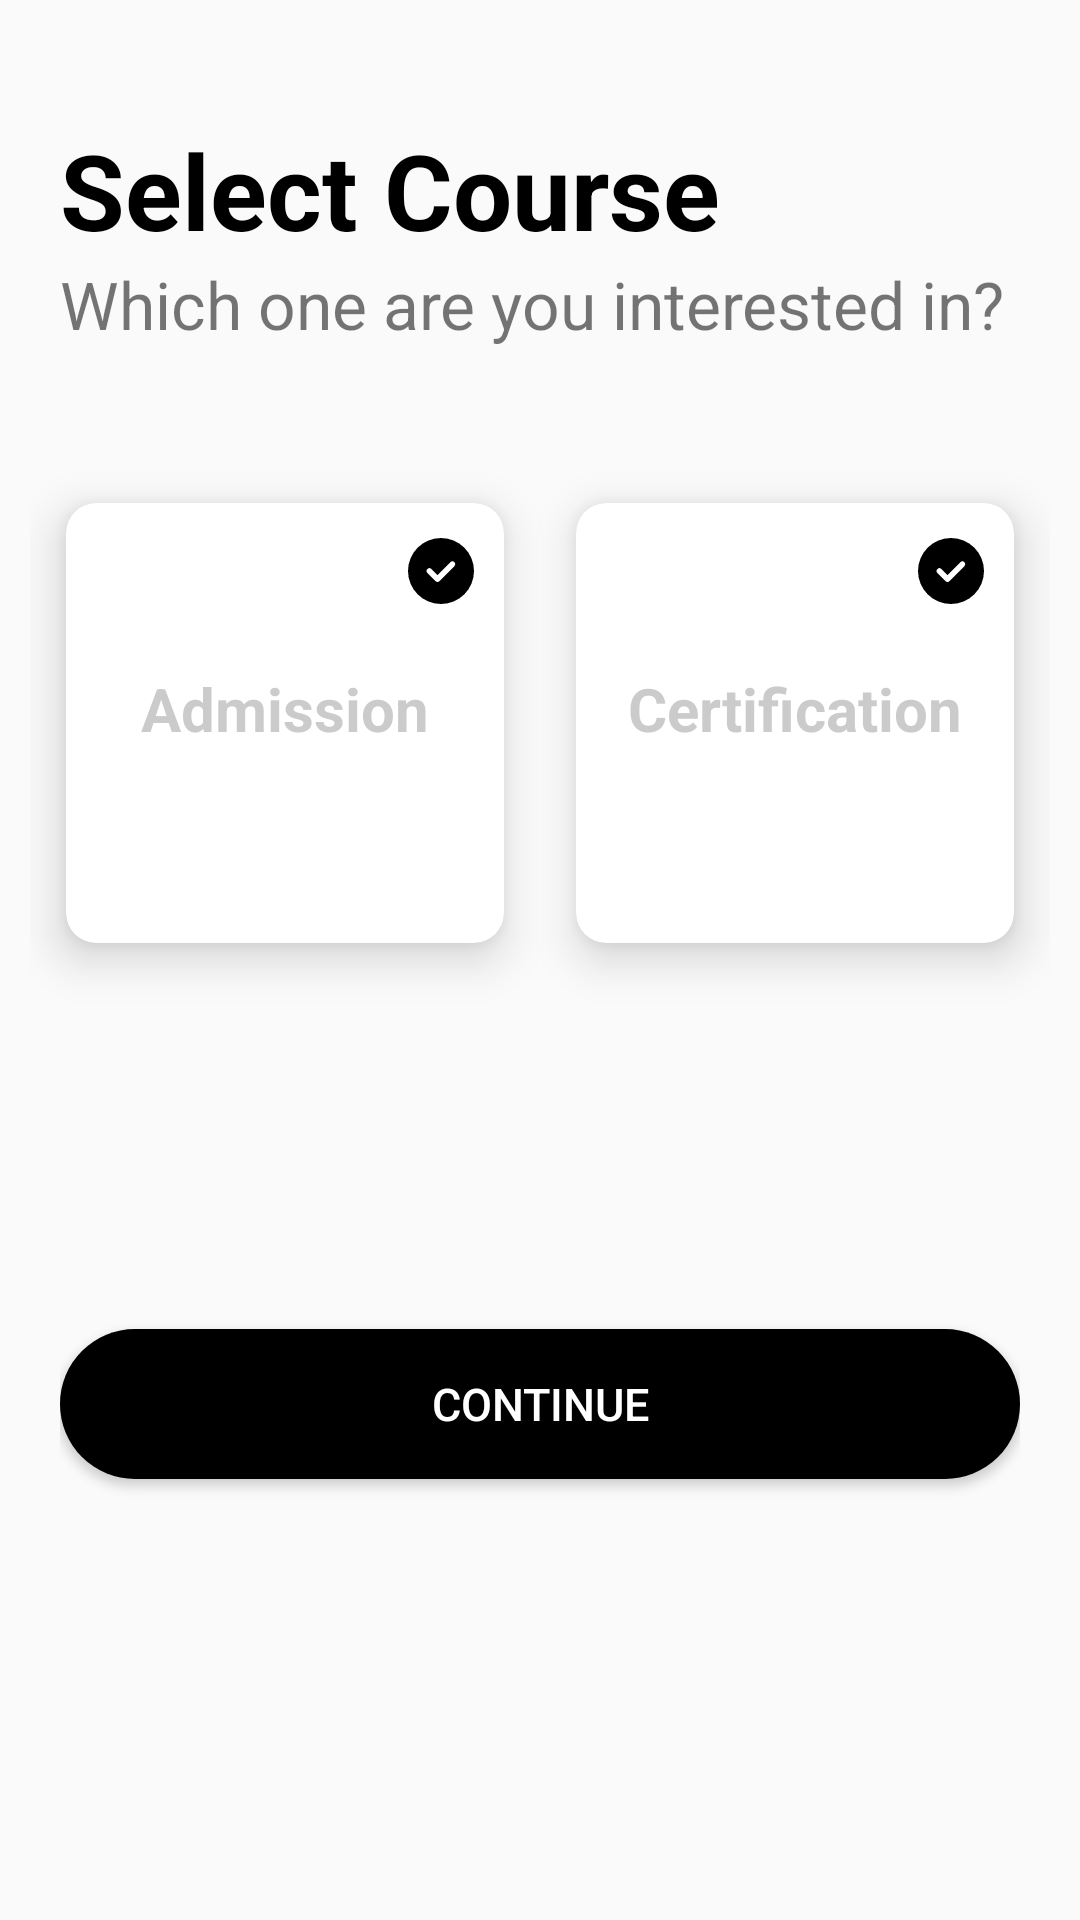

Icon click points for this 1080x1920 phone screenshot, format (x=x, y=y):
tick: (x=441, y=571), (x=951, y=571)
